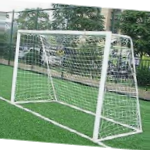goals: (10, 28, 143, 142)
